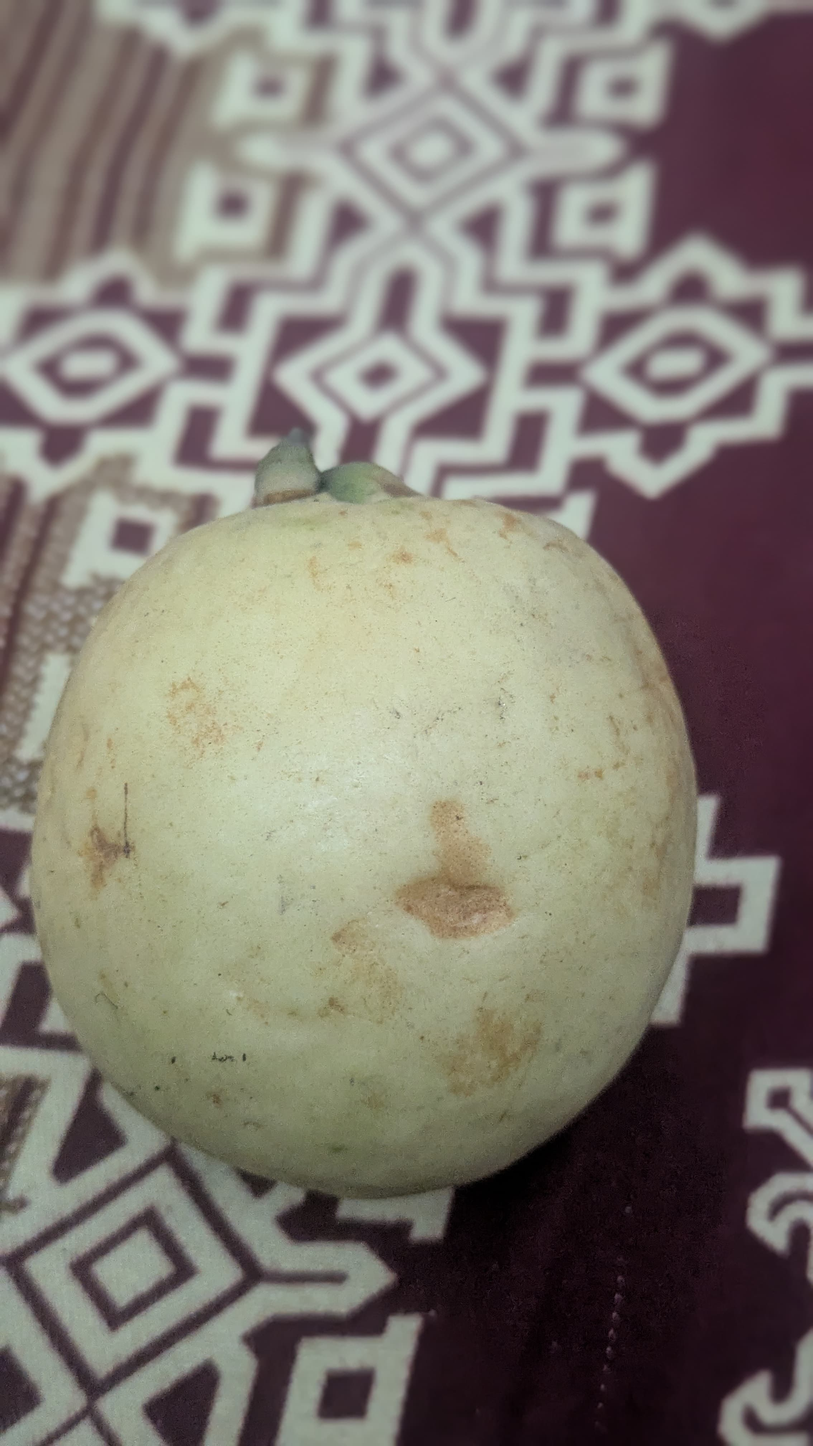guava: (46, 396, 752, 1297)
